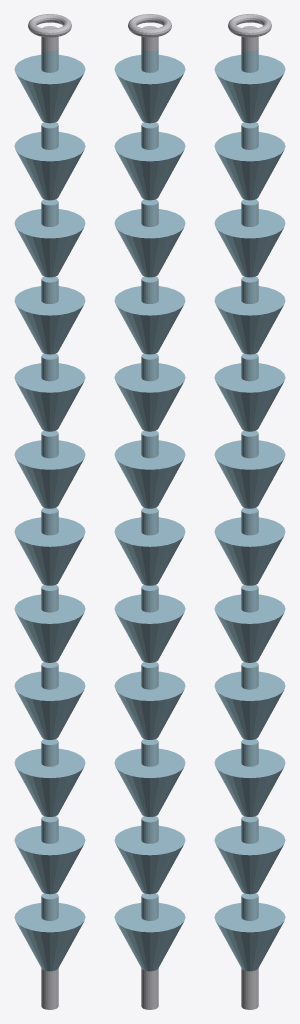
Rendered from Cadena_1527mm.fbx.
3 renders of one model, left to right at view 1: azimuth 90°, elevation 25°; view 2: azimuth 150°, elevation 25°; view 3: azimuth 270°, elevation 25°, orthographic.
Parts seen in each view (by area): view 1: Cadena_1527mm; view 2: Cadena_1527mm; view 3: Cadena_1527mm.
Part boxes in pixels (x1,y1,x2,y2): Cadena_1527mm: [14, 14, 85, 1009]; Cadena_1527mm: [114, 14, 185, 1009]; Cadena_1527mm: [214, 14, 285, 1009].
Bounding box in the file's own units: 10 × 153 × 10.
